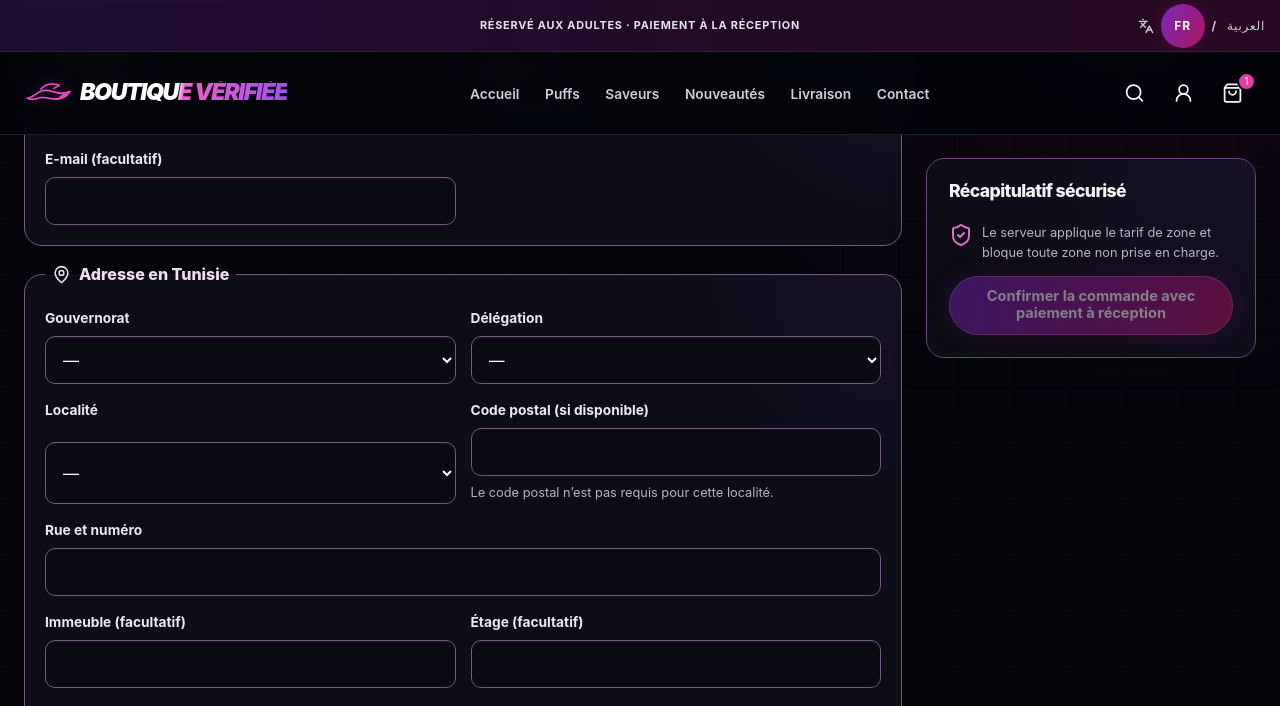
Test: customer-safe delivery metadata › replaces method-option estimates with the authoritative quote without exposing operations
(page scrolled)
Select "Bizerte" in the dropdown labelled "Gouvernorat" at (250,360), box x1=45 y1=336 x2=456 y2=384
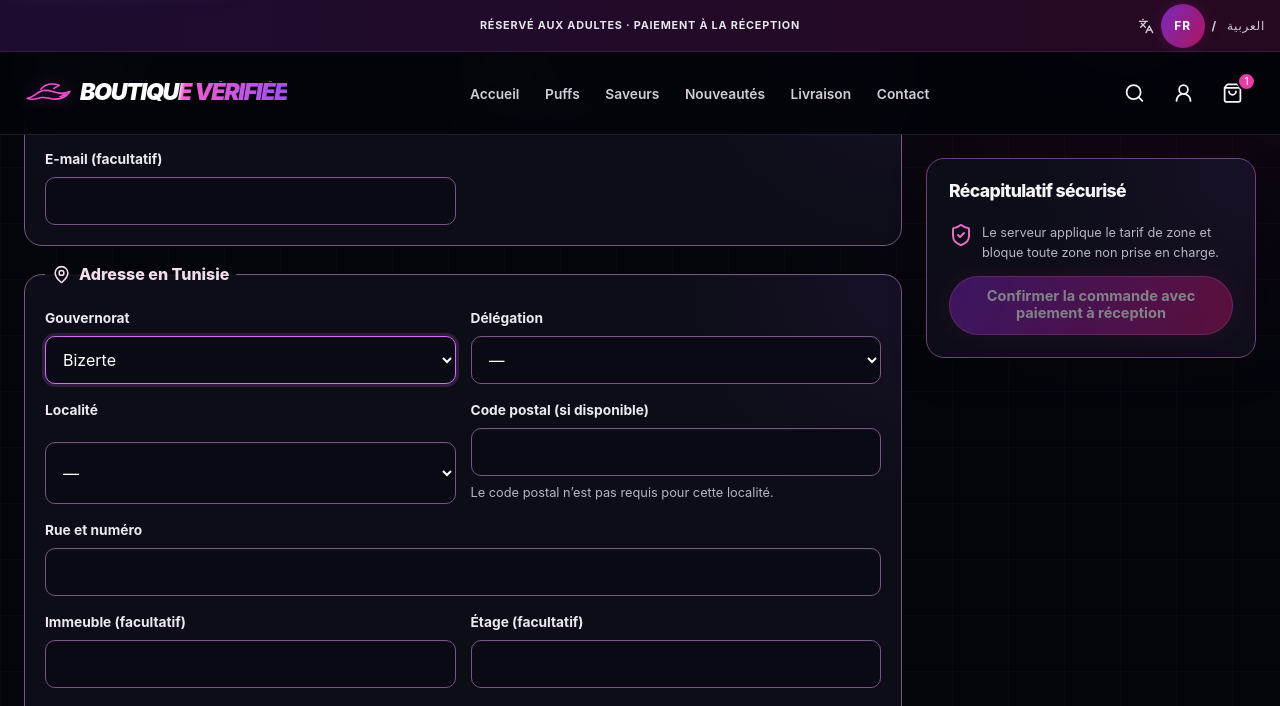
Select "Bizerte Nord" in the dropdown labelled "Délégation" at (676,360), box x1=470 y1=336 x2=881 y2=384
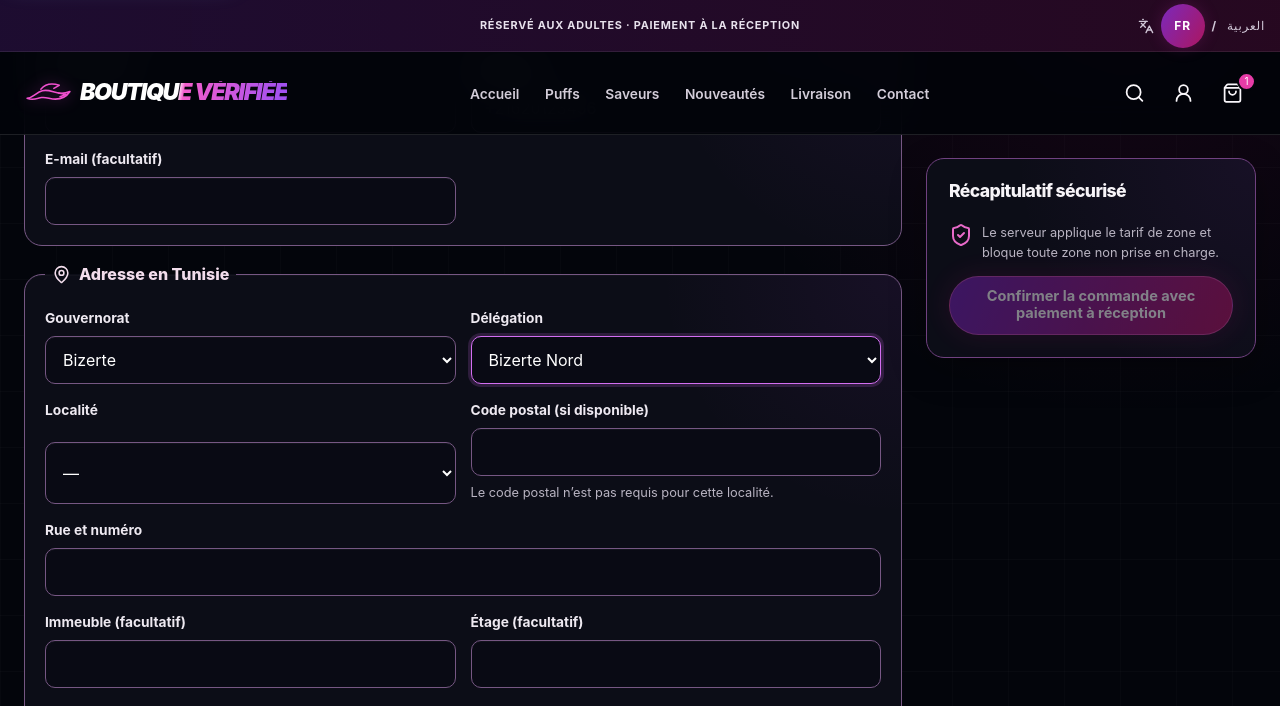
Select "Centre" in the dropdown labelled "Localité" at (250,473), box x1=45 y1=442 x2=456 y2=504
(page scrolled)
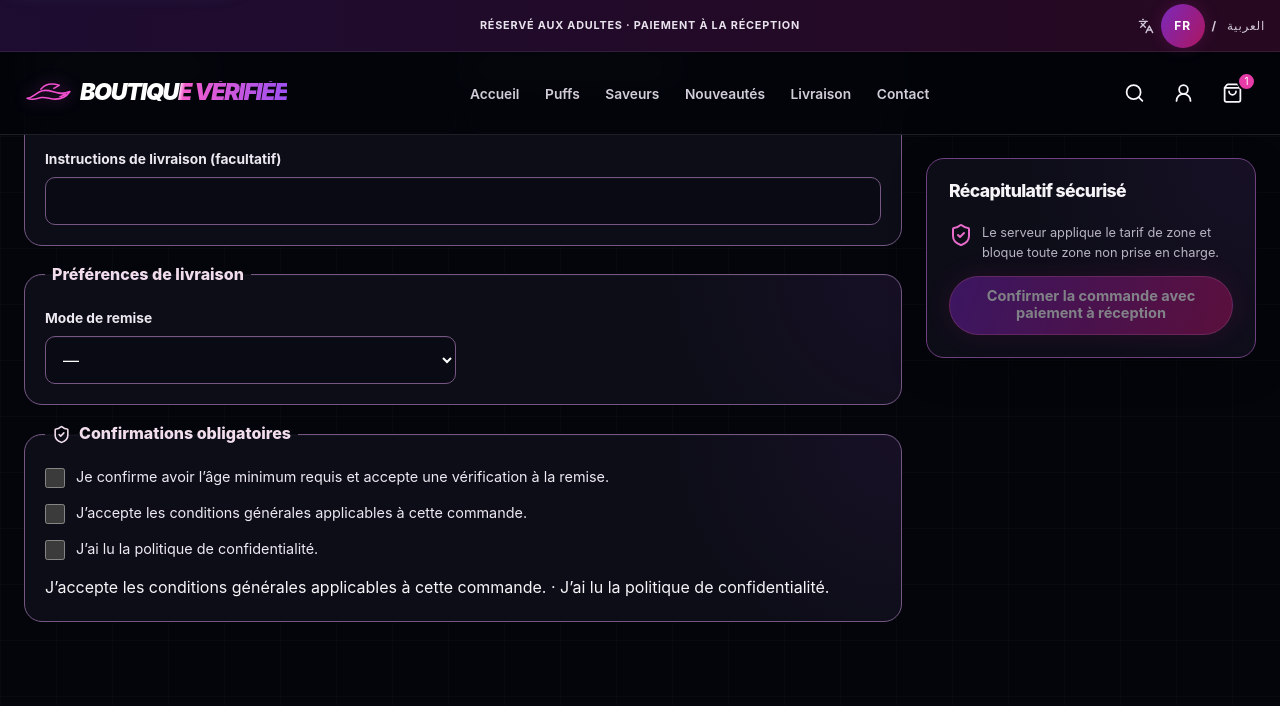
Select "Bizerte Express — Livraison à domicile" in the dropdown labelled "Mode de remise" at (250,360), box x1=45 y1=336 x2=456 y2=384
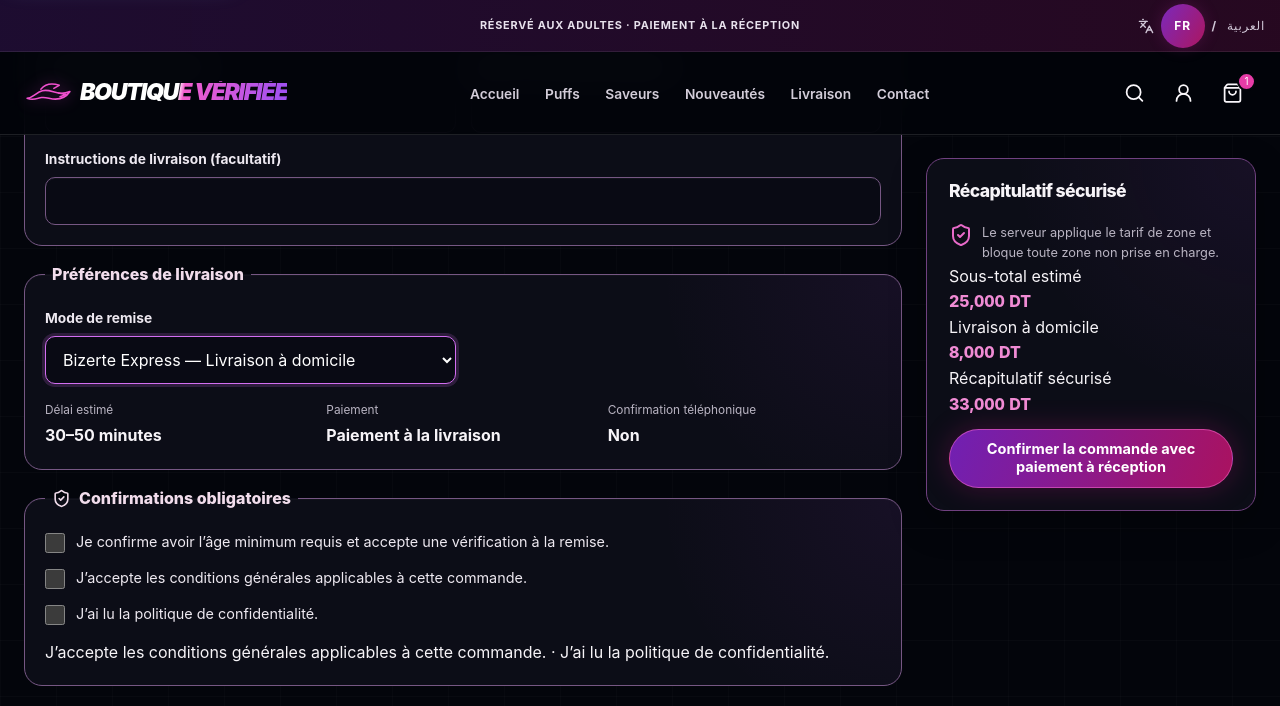
Expected: the text "Paiement à la livraison" is shown, x1=326 y1=423 x2=501 y2=449
Expected: the text "30–50 minutes" is shown, x1=45 y1=423 x2=162 y2=449
Expected: the text "Non" is shown, x1=608 y1=425 x2=640 y2=445
